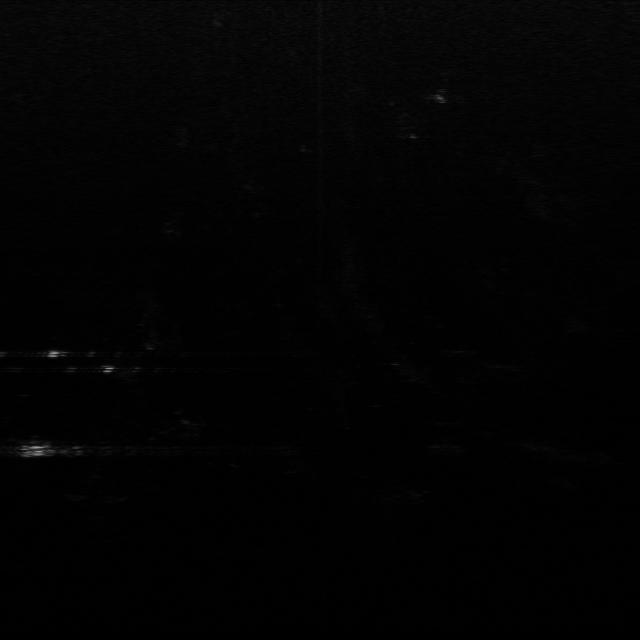rov: (15, 441, 54, 463)
